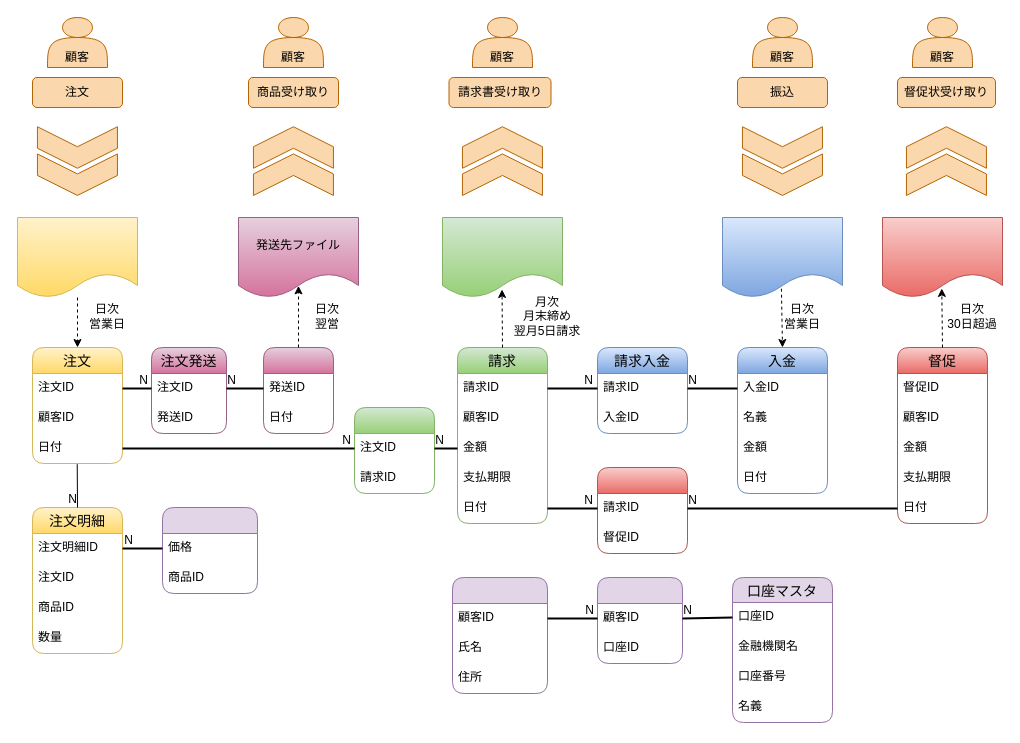
This 1020x743 diagram has some shape labels left out. The box of each missing label's shape, as (x1, y1, x2, y2) in pixels:
入金ファイル: (722, 216, 842, 298)
商品マスタ: (162, 506, 258, 594)
注文ファイル: (16, 216, 138, 298)
注文請求: (354, 406, 434, 494)
発送: (262, 346, 334, 434)
督促ファイル: (882, 216, 1002, 298)
請求ファイル: (442, 216, 562, 298)
請求督促: (596, 466, 688, 554)
顧客マスタ: (452, 576, 548, 694)
顧客口座: (596, 576, 682, 664)
